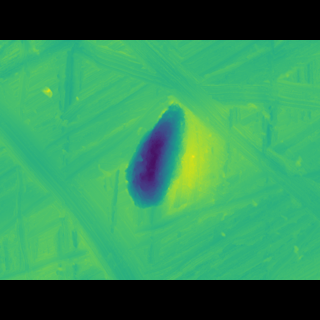Loch: (0, 111, 157, 248), (72, 70, 319, 128), (118, 110, 192, 198)
